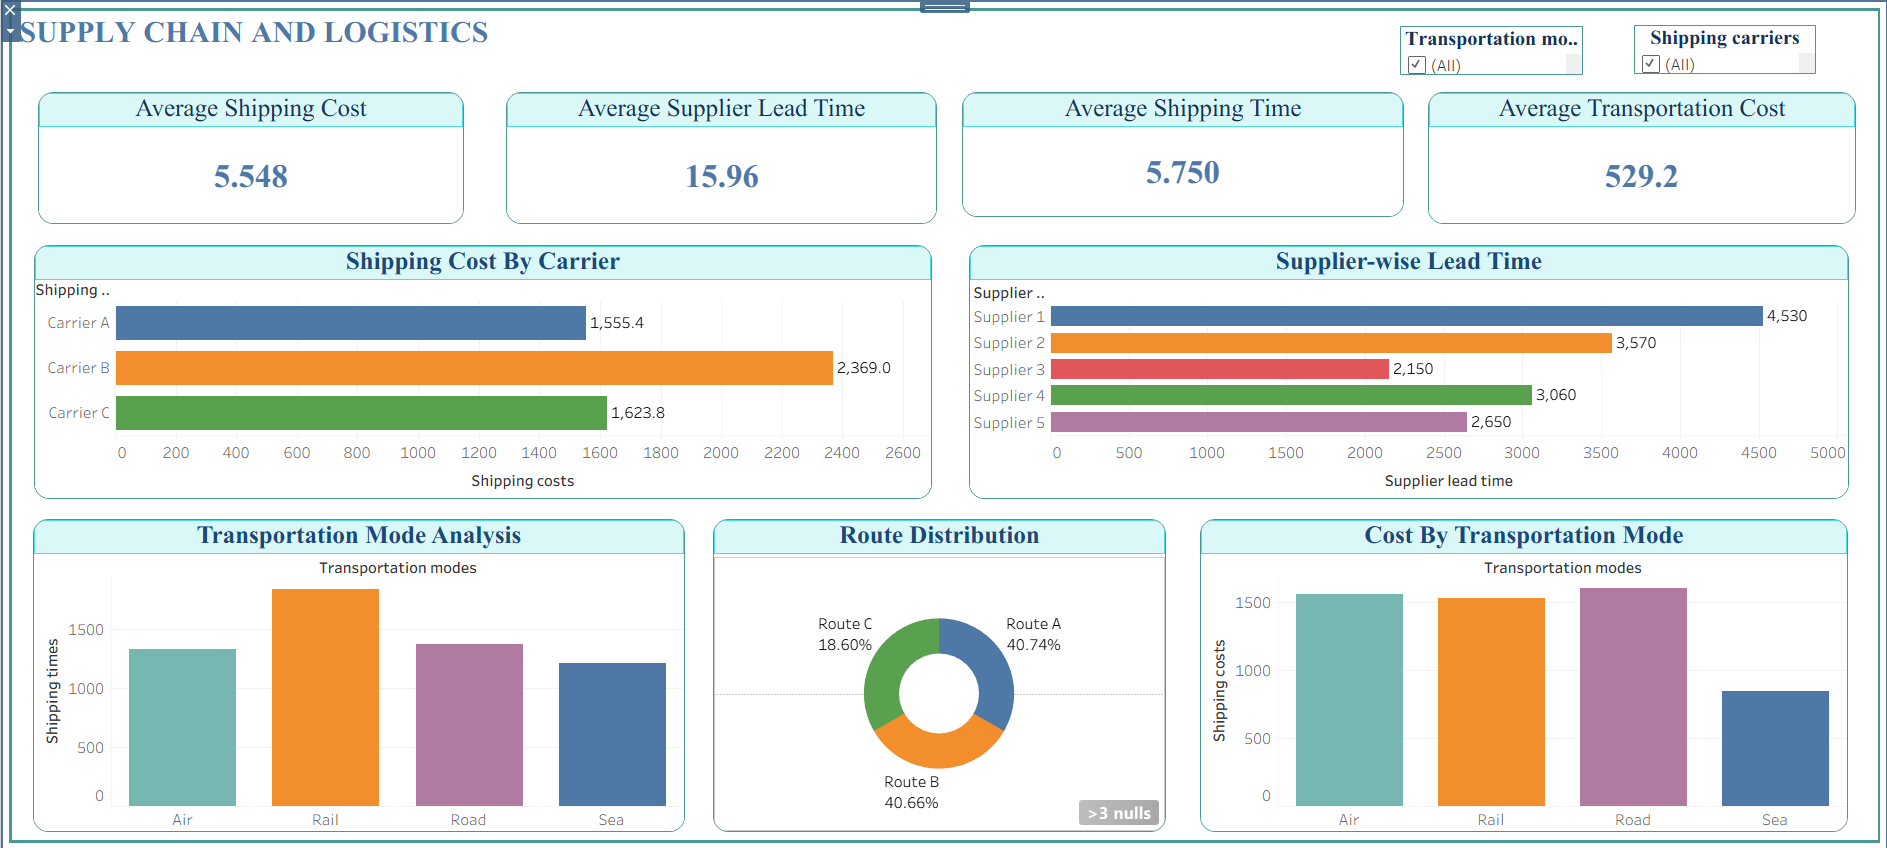

Layout of this report page (visuals, bound fields, positions):
{"tool":"tableau","page":{"name":"Supply Chain & Logistics","canvas":[1000,1000],"units":"permille","ordinal":3},"visuals":[{"type":"title","box":[5.8,12.9,988.3,49.4]},{"type":"filter","title":"Shipping Cost By Carrier","param":"[federated.02h5oi51cr7syl1cryxu90dtj5b1].[none:Shipping carriers:nk]","box":[864.9,29.4,96.4,57.6]},{"type":"filter","title":"Transporation Mode Analysis","param":"[federated.02h5oi51cr7syl1cryxu90dtj5b1].[none:Transportation modes:nk]","box":[741.2,30.6,96.7,57.6]},{"type":"worksheet","title":"Average Shipping Cost","mark":"Automatic","box":[19.6,108.1,225.6,155.1]},{"type":"worksheet","title":"Averaage Supplier Lead Time","mark":"Automatic","box":[267.5,108.1,228.3,155.1]},{"type":"worksheet","title":"Average Shipping Time","mark":"Automatic","box":[508.8,108.1,234.2,146.9]},{"type":"worksheet","title":"Average Transportation Cost","mark":"Automatic","box":[755.8,108.1,226.7,155.1]},{"type":"worksheet","title":"Shipping Cost By Carrier","mark":"Automatic","rows":["Shipping carriers"],"cols":["Shipping costs"],"box":[17.5,287.9,475.8,298.5]},{"type":"worksheet","title":"Supplier-wise Lead Time","mark":"Automatic","rows":["Supplier name"],"cols":["Supplier lead time"],"box":[512.7,287.9,466.1,298.5]},{"type":"worksheet","title":"Transporation Mode Analysis","mark":"Automatic","rows":["Shipping times"],"cols":["Transportation modes"],"box":[16.9,609.9,345.2,367.8]},{"type":"worksheet","title":"Route Distribution","mark":"Pie","rows":["Availability","Availability"],"box":[377.3,609.9,240,367.8]},{"type":"worksheet","title":"Cost By Transportation Mode","mark":"Automatic","rows":["Shipping costs"],"cols":["Transportation modes"],"box":[634.8,609.9,343.4,367.8]}]}

Visuals, with their boxes on the dashboard's canvas, which has no fixed pixel size, in thousandths of its width and height (x1, y1, x2, y2). These are canvas units, not pixel positions in the 1887x848 screenshot, which may show the page scaled, cropped or inside an application window:
title: (x1=6, y1=13, x2=994, y2=62)
"Shipping Cost By Carrier" filter: (x1=865, y1=29, x2=961, y2=87)
"Transporation Mode Analysis" filter: (x1=741, y1=31, x2=838, y2=88)
"Average Shipping Cost" worksheet: (x1=20, y1=108, x2=245, y2=263)
"Averaage Supplier Lead Time" worksheet: (x1=268, y1=108, x2=496, y2=263)
"Average Shipping Time" worksheet: (x1=509, y1=108, x2=743, y2=255)
"Average Transportation Cost" worksheet: (x1=756, y1=108, x2=982, y2=263)
"Shipping Cost By Carrier" worksheet: (x1=18, y1=288, x2=493, y2=586)
"Supplier-wise Lead Time" worksheet: (x1=513, y1=288, x2=979, y2=586)
"Transporation Mode Analysis" worksheet: (x1=17, y1=610, x2=362, y2=978)
"Route Distribution" worksheet (Pie marks): (x1=377, y1=610, x2=617, y2=978)
"Cost By Transportation Mode" worksheet: (x1=635, y1=610, x2=978, y2=978)
